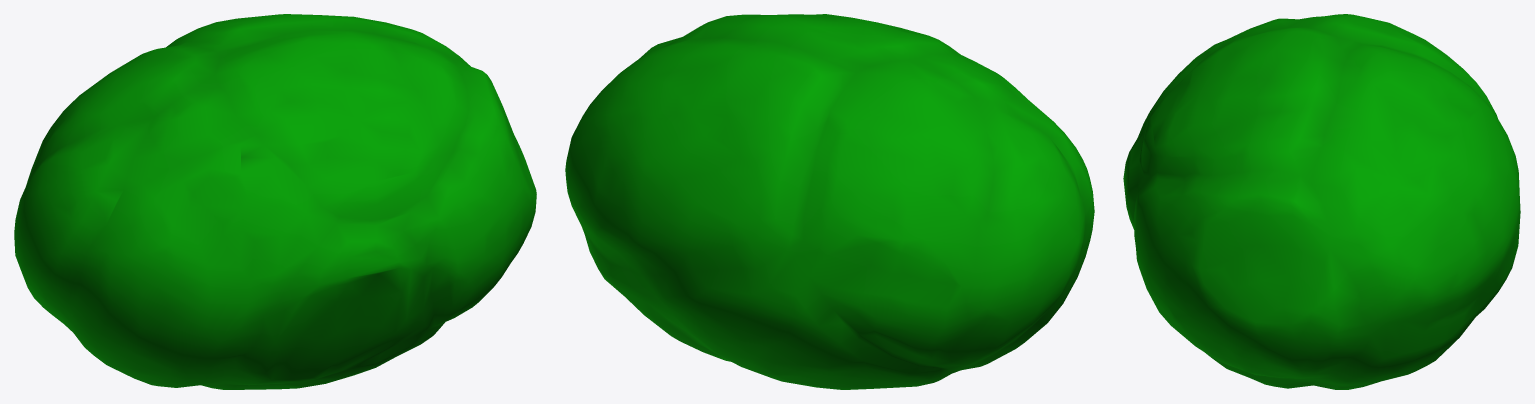
The model's file is boulder_a.glb.
3 renders of one model, left to right at view 1: azimuth 30°, elevation 25°; view 2: azimuth 150°, elevation 25°; view 3: azimuth 270°, elevation 25°, orthographic. The views are drawn at different scales.
Visible parts, largest first — view 1: LOD0; view 2: LOD0; view 3: LOD0.
Boxes of the visible parts, x1,y1,x2,y2 form: LOD0: [14, 14, 536, 389]; LOD0: [565, 14, 1094, 389]; LOD0: [1123, 14, 1520, 389].
Size of what is drawn, in the model's own units: 2.6 by 1.59 by 1.96.
